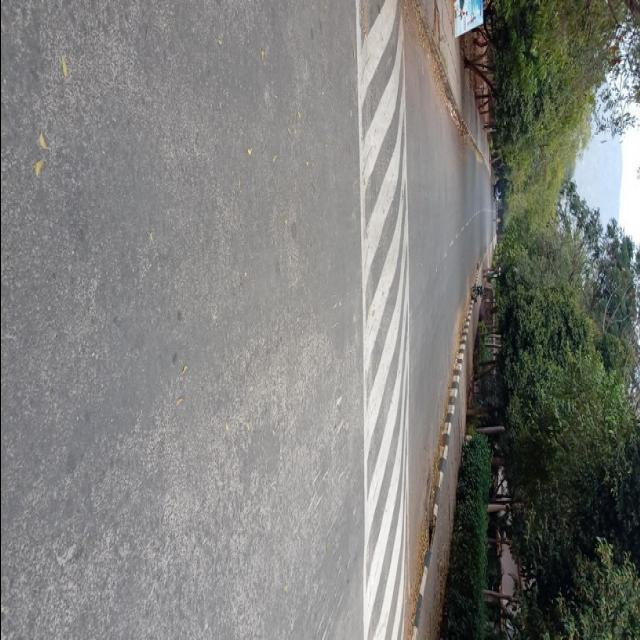speedbreaker: (349, 0, 416, 640)
